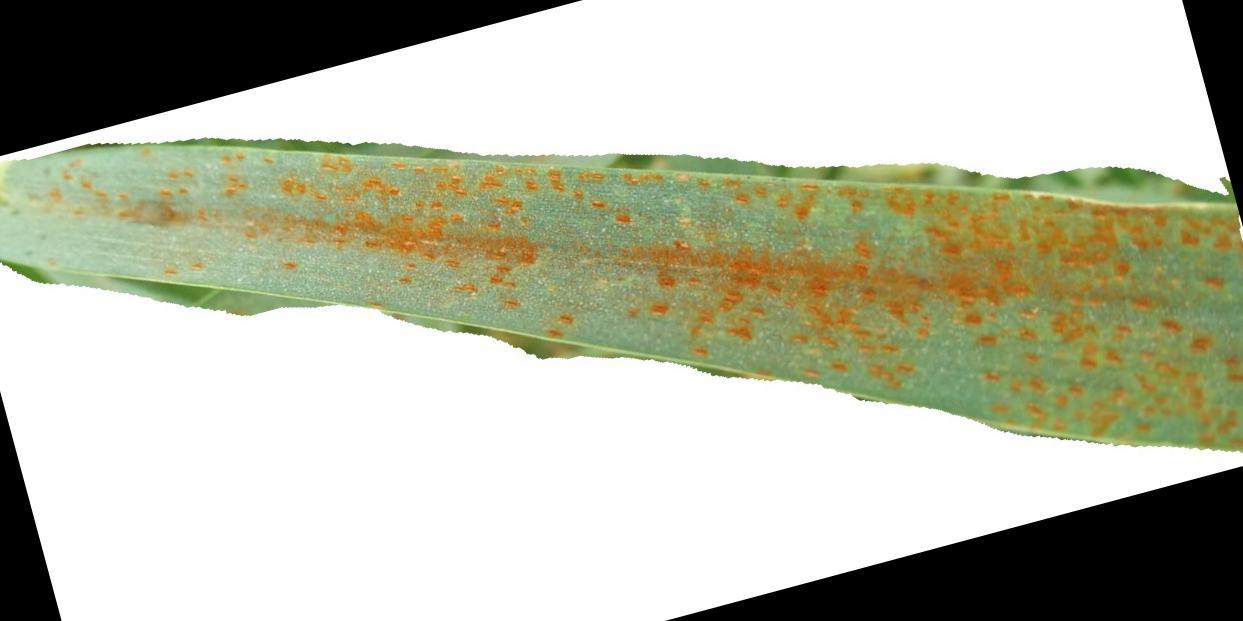Wheat: (265, 160, 625, 273), (1150, 221, 1236, 442), (1015, 290, 1142, 433), (932, 191, 1131, 274)
